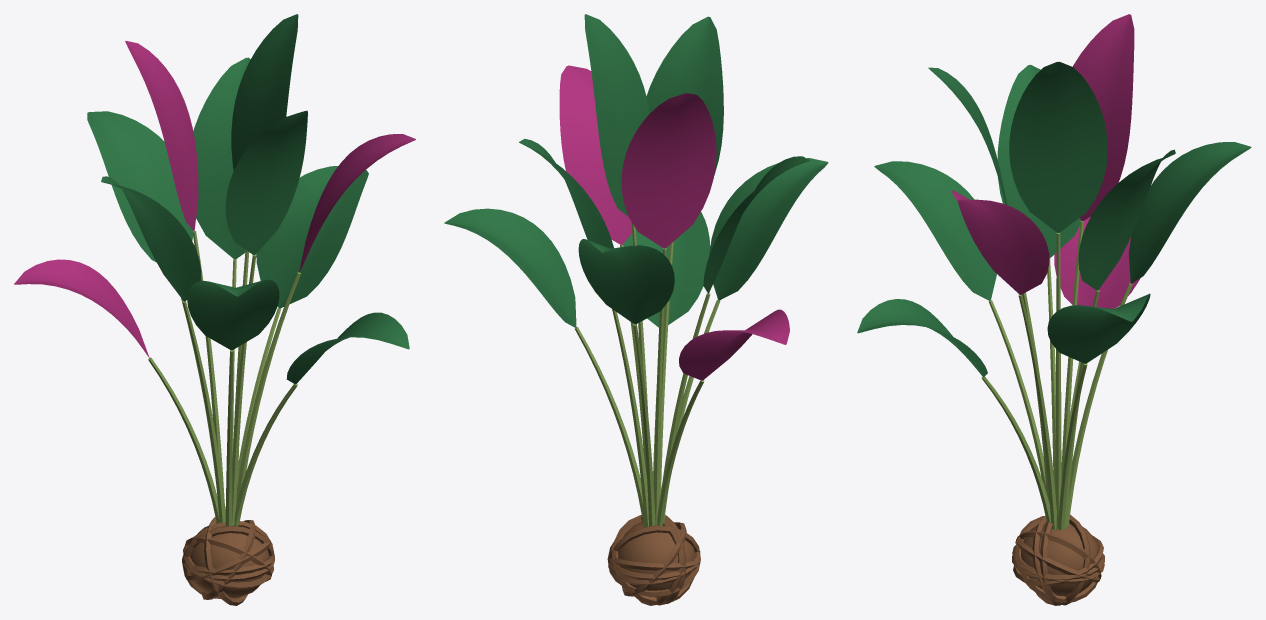
Rendered from JAC_11_Planta_Folha_Larga.glb.
The picture shows the model from 3 angles, left to right: view 1: azimuth 30°, elevation 25°; view 2: azimuth 150°, elevation 25°; view 3: azimuth 270°, elevation 25°; orthographic projection.
Visible parts, largest first — view 1: JAC_11_Planta_Folha_Larga; view 2: JAC_11_Planta_Folha_Larga; view 3: JAC_11_Planta_Folha_Larga.
Boxes of the visible parts, left/top/right/bottom form: JAC_11_Planta_Folha_Larga: left=14, top=14, right=415, bottom=605; JAC_11_Planta_Folha_Larga: left=444, top=14, right=828, bottom=605; JAC_11_Planta_Folha_Larga: left=857, top=14, right=1251, bottom=605.
Size of the model in its own units: 1.4 by 2.2 by 1.37.
